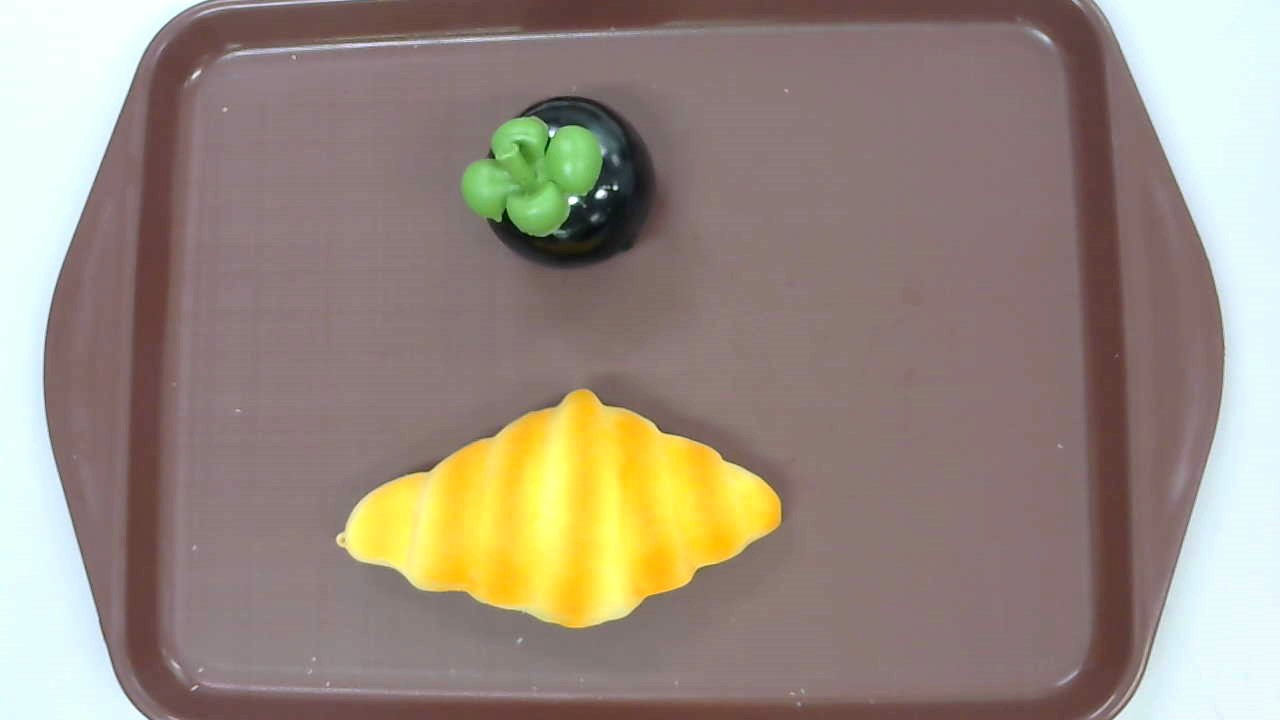croissant: (335, 388, 783, 629)
mangosteen: (459, 95, 654, 267)
